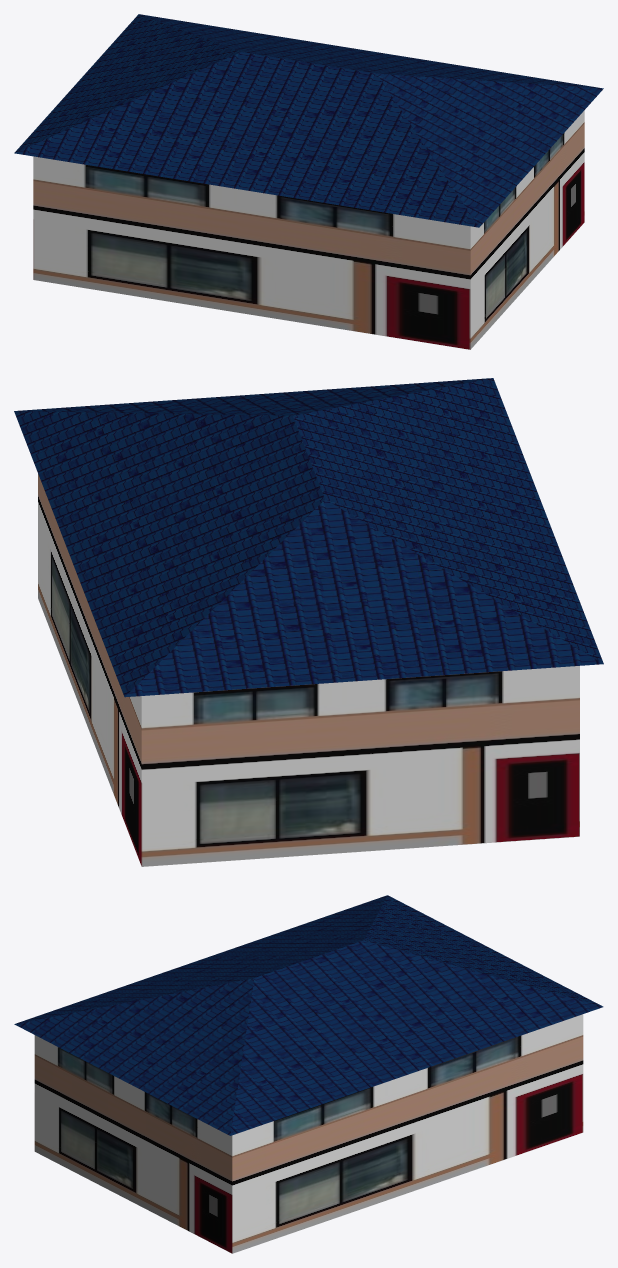
3 renders of one model, top to bottom at view 1: azimuth 30°, elevation 25°; view 2: azimuth 150°, elevation 25°; view 3: azimuth 270°, elevation 25°, orthographic. The views are drawn at different scales.
Visible parts, largest first — view 1: CityEngineMaterial_6_m, CityEngineMaterial_5_m; view 2: CityEngineMaterial_6_m, CityEngineMaterial_5_m; view 3: CityEngineMaterial_6_m, CityEngineMaterial_5_m.
Boxes of the visible parts, box(x1,y1,x2,y2) form: CityEngineMaterial_6_m: box(14, 14, 603, 227); CityEngineMaterial_5_m: box(33, 110, 584, 349); CityEngineMaterial_6_m: box(14, 378, 603, 697); CityEngineMaterial_5_m: box(38, 474, 579, 866); CityEngineMaterial_6_m: box(14, 895, 603, 1135); CityEngineMaterial_5_m: box(34, 1014, 583, 1253).
Size of the model in its own units: 36.52 by 12.93 by 37.79.
